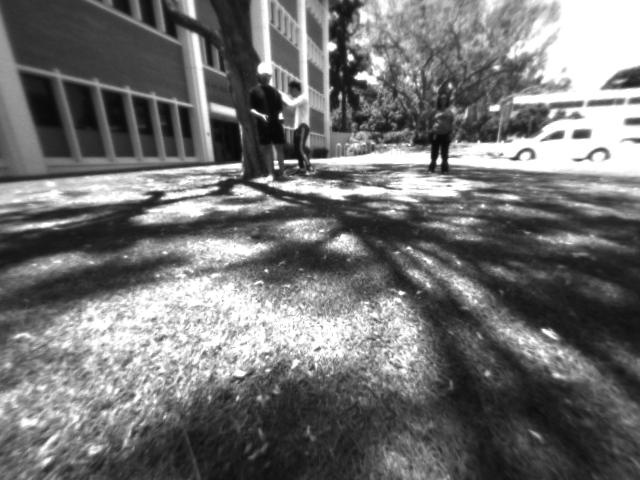dogtoy: (243, 219, 270, 244)
